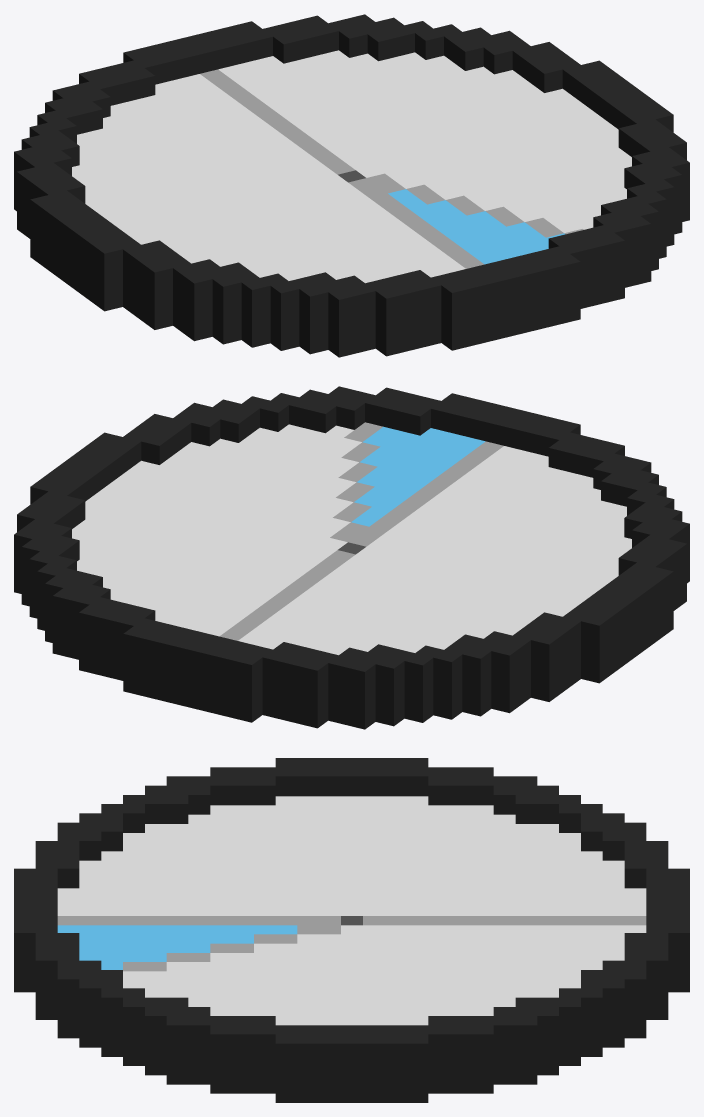
File: clock.obj
3 renders of one model, top to bottom at view 1: azimuth 30°, elevation 25°; view 2: azimuth 150°, elevation 25°; view 3: azimuth 270°, elevation 25°, orthographic. The views are drawn at different scales.
Size of the model in its own units: 31 by 3 by 31.
Materials: 1 (1 with a texture image).
